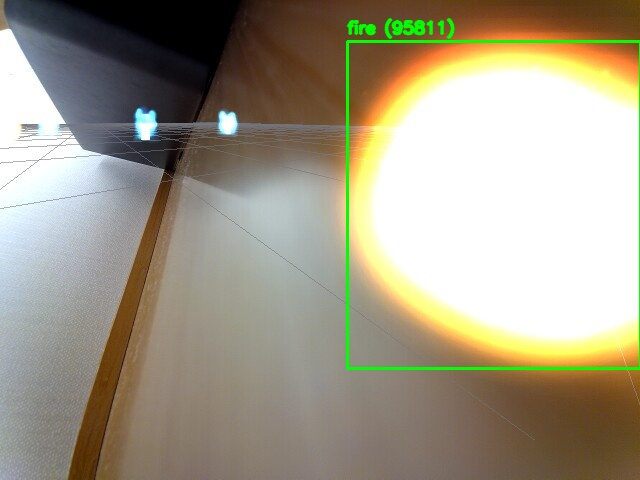fire: (347, 41, 640, 368)
